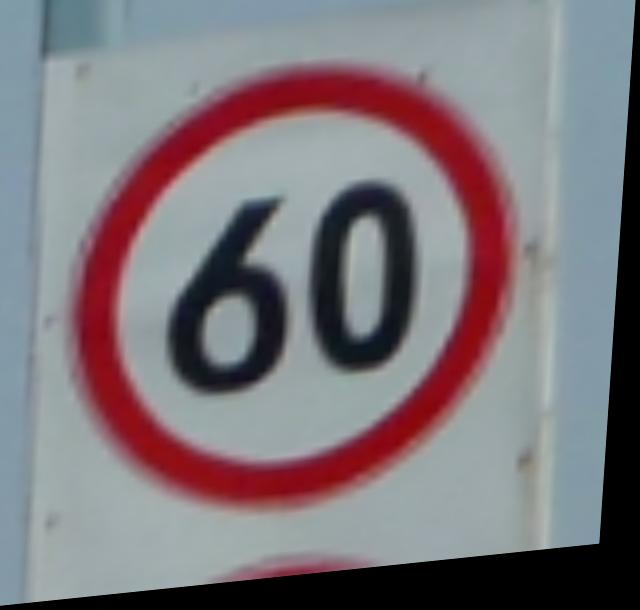limit60: (46, 39, 549, 544)
